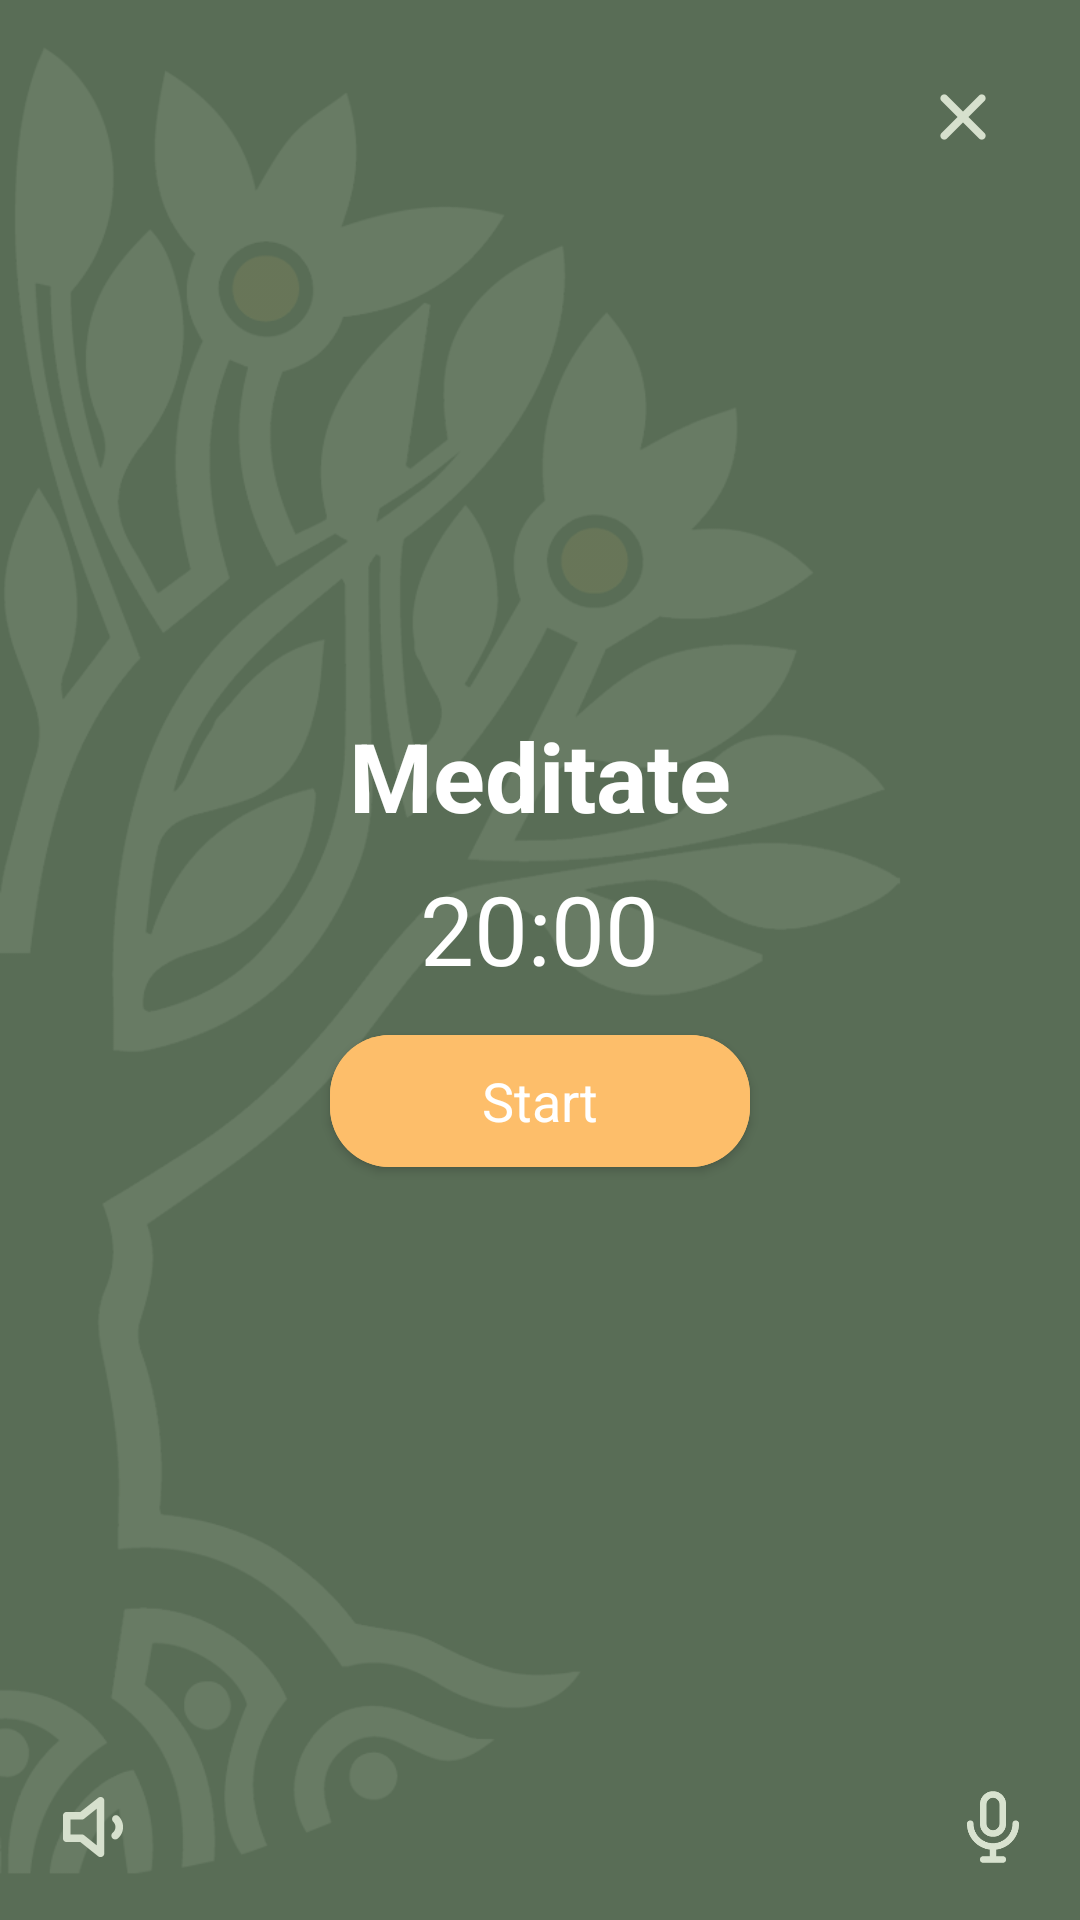

Icon click points for this 1080*1920 phone screenshot, format (x,y):
mic: (993,1827)
sound: (93,1827)
times: (963,117)
